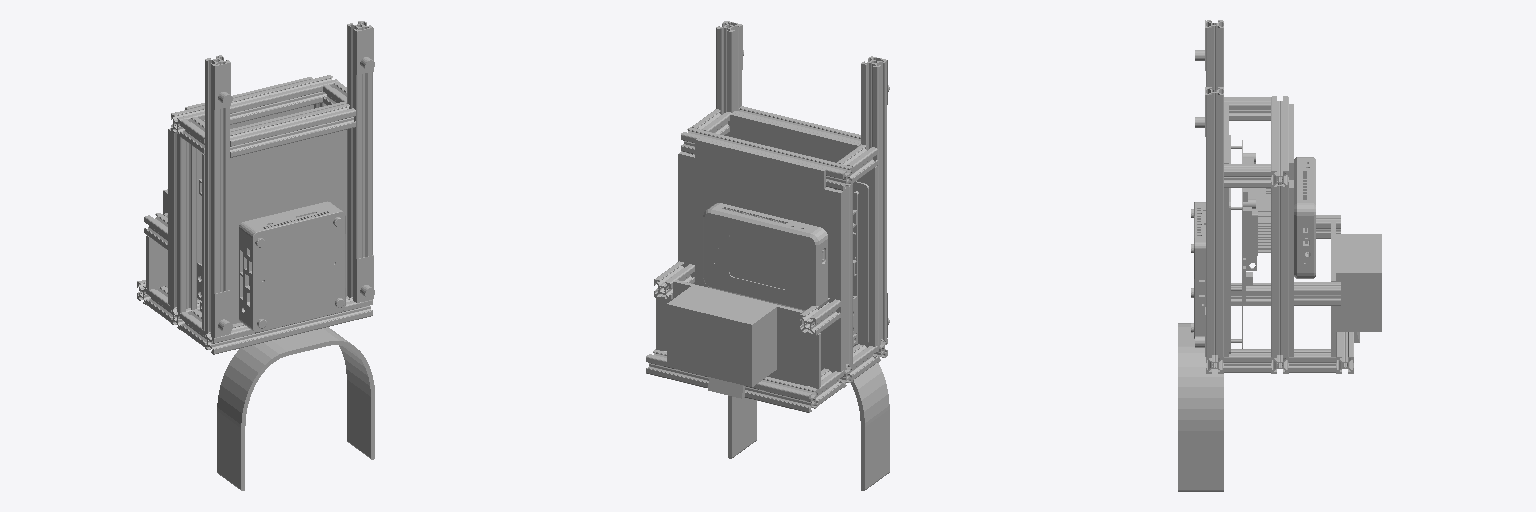
robot.urdf — model20:
<?xml version="1.0" encoding="utf-8"?>
<!-- This URDF was automatically created by SolidWorks to URDF Exporter! Originally created by [author] ([email redacted]) 
     Commit Version: 1.5.1-0-g916b5db  Build Version: 1.5.7152.31018
     For more information, please see http://wiki.ros.org/sw_urdf_exporter -->
<robot
  name="model20">
  <link
    name="base_link">
    <inertial>
      <origin
        xyz="-0.0913295658742293 -0.0740631869532505 0.0426922769396564"
        rpy="0 0 0" />
      <mass
        value="3.2182938629627" />
      <inertia
        ixx="0.00580151653868721"
        ixy="1.93643410747545E-06"
        ixz="6.7604037813263E-07"
        iyy="0.00721990996747041"
        iyz="3.86677335645444E-07"
        izz="0.0125117312153308" />
    </inertial>
    <visual>
      <origin
        xyz="0 0 0"
        rpy="0 0 0" />
      <geometry>
        <mesh
          filename="package://model20/meshes/base_link.STL" />
      </geometry>
      <material
        name="">
        <color
          rgba="0.752941176470588 0.752941176470588 0.752941176470588 1" />
      </material>
    </visual>
    <collision>
      <origin
        xyz="0 0 0"
        rpy="0 0 0" />
      <geometry>
        <mesh
          filename="package://model20/meshes/base_link.STL" />
      </geometry>
    </collision>
  </link>
  <link
    name="left_front_wheel_suspension">
    <inertial>
      <origin
        xyz="-0.00786753377996494 -0.0155948984609842 0.0232556468762561"
        rpy="0 0 0" />
      <mass
        value="0.0651133753252895" />
      <inertia
        ixx="1.48802654908116E-05"
        ixy="1.64845451975805E-08"
        ixz="-1.56420031463122E-07"
        iyy="1.75245555055195E-05"
        iyz="-2.96403540336103E-09"
        izz="8.01010024686586E-06" />
    </inertial>
    <visual>
      <origin
        xyz="0 0 0"
        rpy="0 0 0" />
      <geometry>
        <mesh
          filename="package://model20/meshes/left_front_wheel_suspension.STL" />
      </geometry>
      <material
        name="">
        <color
          rgba="0.752941176470588 0.752941176470588 0.752941176470588 1" />
      </material>
    </visual>
    <collision>
      <origin
        xyz="0 0 0"
        rpy="0 0 0" />
      <geometry>
        <mesh
          filename="package://model20/meshes/left_front_wheel_suspension.STL" />
      </geometry>
    </collision>
  </link>
  <joint
    name="left_front_wheel_suspension_joint"
    type="prismatic">
    <origin
      xyz="-0.018499 0.0039869 -0.030998"
      rpy="1.5708 0 -1.5708" />
    <parent
      link="base_link" />
    <child
      link="left_front_wheel_suspension" />
    <axis
      xyz="0 1 0" />
    <limit
      lower="0"
      upper="0"
      effort="0"
      velocity="0" />
  </joint>
  <link
    name="left_front_wheel">
    <inertial>
      <origin
        xyz="0.0158399891826273 -4.59981459866032E-09 7.99690621500204E-08"
        rpy="0 0 0" />
      <mass
        value="0.22822169800504" />
      <inertia
        ixx="0.000789211576324214"
        ixy="-1.09995507949659E-10"
        ixz="1.91230261060021E-09"
        iyy="0.000410429434291453"
        iyz="-5.55677330321344E-16"
        izz="0.000410429434301075" />
    </inertial>
    <visual>
      <origin
        xyz="0 0 0"
        rpy="0 0 0" />
      <geometry>
        <mesh
          filename="package://model20/meshes/left_front_wheel.STL" />
      </geometry>
      <material
        name="">
        <color
          rgba="1 1 1 1" />
      </material>
    </visual>
    <collision>
      <origin
        xyz="0 0 0"
        rpy="0 0 0" />
      <geometry>
        <mesh
          filename="package://model20/meshes/left_front_wheel.STL" />
      </geometry>
    </collision>
  </link>
  <joint
    name="left_front_wheel_joint"
    type="continuous">
    <origin
      xyz="-0.01976 -0.021787 0.0099999"
      rpy="3.0841 0 3.1416" />
    <parent
      link="left_front_wheel_suspension" />
    <child
      link="left_front_wheel" />
    <axis
      xyz="1 0 0" />
    <limit
      effort="3.1"
      velocity="7" />
  </joint>
  <link
    name="right_front_wheel_suspension">
    <inertial>
      <origin
        xyz="-0.00415434378457435 -0.0156302499401892 0.023255686661272"
        rpy="0 0 0" />
      <mass
        value="0.0651133753251555" />
      <inertia
        ixx="1.48802639086072E-05"
        ixy="1.64845302056301E-08"
        ixz="1.56454773175217E-07"
        iyy="1.75245555054544E-05"
        iyz="2.96411876510217E-09"
        izz="8.01010182899685E-06" />
    </inertial>
    <visual>
      <origin
        xyz="0 0 0"
        rpy="0 0 0" />
      <geometry>
        <mesh
          filename="package://model20/meshes/right_front_wheel_suspension.STL" />
      </geometry>
      <material
        name="">
        <color
          rgba="0.752941176470588 0.752941176470588 0.752941176470588 1" />
      </material>
    </visual>
    <collision>
      <origin
        xyz="0 0 0"
        rpy="0 0 0" />
      <geometry>
        <mesh
          filename="package://model20/meshes/right_front_wheel_suspension.STL" />
      </geometry>
    </collision>
  </link>
  <joint
    name="right_front_wheel_suspension_joint"
    type="prismatic">
    <origin
      xyz="-0.018499 -0.16601 -0.030998"
      rpy="1.5708 0 -1.5708" />
    <parent
      link="base_link" />
    <child
      link="right_front_wheel_suspension" />
    <axis
      xyz="0 1 0" />
    <limit
      lower="0"
      upper="0"
      effort="0"
      velocity="0" />
  </joint>
  <link
    name="right_front_wheel">
    <inertial>
      <origin
        xyz="0.015839199018542 1.11022302462516E-16 0"
        rpy="0 0 0" />
      <mass
        value="0.22822169800504" />
      <inertia
        ixx="0.000789211576333899"
        ixy="-3.38619760983269E-20"
        ixz="4.93127202072331E-21"
        iyy="0.000410429434291421"
        iyz="-2.98155597433514E-19"
        izz="0.00041042943429142" />
    </inertial>
    <visual>
      <origin
        xyz="0 0 0"
        rpy="0 0 0" />
      <geometry>
        <mesh
          filename="package://model20/meshes/right_front_wheel.STL" />
      </geometry>
      <material
        name="">
        <color
          rgba="1 1 1 1" />
      </material>
    </visual>
    <collision>
      <origin
        xyz="0 0 0"
        rpy="0 0 0" />
      <geometry>
        <mesh
          filename="package://model20/meshes/right_front_wheel.STL" />
      </geometry>
    </collision>
  </link>
  <joint
    name="right_front_wheel_joint"
    type="continuous">
    <origin
      xyz="0.0077391 -0.021785 0.01"
      rpy="0.1626 0 0" />
    <parent
      link="right_front_wheel_suspension" />
    <child
      link="right_front_wheel" />
    <axis
      xyz="1 0 0" />
    <limit
      effort="3.1"
      velocity="7" />
  </joint>
  <link
    name="left_rear_wheel_suspension">
    <inertial>
      <origin
        xyz="-0.00786753377996494 -0.0155948984609842 0.0232556468762561"
        rpy="0 0 0" />
      <mass
        value="0.0651133753252895" />
      <inertia
        ixx="1.48802654908115E-05"
        ixy="1.64845451975805E-08"
        ixz="-1.56420031463129E-07"
        iyy="1.75245555055195E-05"
        iyz="-2.96403540336444E-09"
        izz="8.01010024686586E-06" />
    </inertial>
    <visual>
      <origin
        xyz="0 0 0"
        rpy="0 0 0" />
      <geometry>
        <mesh
          filename="package://model20/meshes/left_rear_wheel_suspension.STL" />
      </geometry>
      <material
        name="">
        <color
          rgba="0.752941176470588 0.752941176470588 0.752941176470588 1" />
      </material>
    </visual>
    <collision>
      <origin
        xyz="0 0 0"
        rpy="0 0 0" />
      <geometry>
        <mesh
          filename="package://model20/meshes/left_rear_wheel_suspension.STL" />
      </geometry>
    </collision>
  </link>
  <joint
    name="left_rear_wheel_suspension_joint"
    type="prismatic">
    <origin
      xyz="-0.2785 0.0039882 -0.030998"
      rpy="1.5708 0 -1.5708" />
    <parent
      link="base_link" />
    <child
      link="left_rear_wheel_suspension" />
    <axis
      xyz="0 1 0" />
    <limit
      lower="0"
      upper="0"
      effort="0"
      velocity="0" />
  </joint>
  <link
    name="left_rear_wheel">
    <inertial>
      <origin
        xyz="0.0158401765053968 7.40328947035351E-08 3.05858046945051E-08"
        rpy="0 0 0" />
      <mass
        value="0.22822169800504" />
      <inertia
        ixx="0.000789211576324214"
        ixy="1.77032992327352E-09"
        ixz="7.31390626651259E-10"
        iyy="0.000410429434299695"
        iyz="3.41792024370624E-15"
        izz="0.000410429434292833" />
    </inertial>
    <visual>
      <origin
        xyz="0 0 0"
        rpy="0 0 0" />
      <geometry>
        <mesh
          filename="package://model20/meshes/left_rear_wheel.STL" />
      </geometry>
      <material
        name="">
        <color
          rgba="1 1 1 1" />
      </material>
    </visual>
    <collision>
      <origin
        xyz="0 0 0"
        rpy="0 0 0" />
      <geometry>
        <mesh
          filename="package://model20/meshes/left_rear_wheel.STL" />
      </geometry>
    </collision>
  </link>
  <joint
    name="left_rear_wheel_joint"
    type="continuous">
    <origin
      xyz="-0.01976 -0.021787 0.0099999"
      rpy="-1.9626 0 3.1416" />
    <parent
      link="left_rear_wheel_suspension" />
    <child
      link="left_rear_wheel" />
    <axis
      xyz="1 0 0" />
    <limit
      effort="3.1"
      velocity="7" />
  </joint>
  <link
    name="right_rear_wheel_suspension">
    <inertial>
      <origin
        xyz="-0.00415434378457436 -0.0156302499401892 0.0232556866612721"
        rpy="0 0 0" />
      <mass
        value="0.0651133753251554" />
      <inertia
        ixx="1.48802639086072E-05"
        ixy="1.64845302056292E-08"
        ixz="1.56454773175207E-07"
        iyy="1.75245555054544E-05"
        iyz="2.96411876510507E-09"
        izz="8.01010182899684E-06" />
    </inertial>
    <visual>
      <origin
        xyz="0 0 0"
        rpy="0 0 0" />
      <geometry>
        <mesh
          filename="package://model20/meshes/right_rear_wheel_suspension.STL" />
      </geometry>
      <material
        name="">
        <color
          rgba="0.752941176470588 0.752941176470588 0.752941176470588 1" />
      </material>
    </visual>
    <collision>
      <origin
        xyz="0 0 0"
        rpy="0 0 0" />
      <geometry>
        <mesh
          filename="package://model20/meshes/right_rear_wheel_suspension.STL" />
      </geometry>
    </collision>
  </link>
  <joint
    name="right_rear_wheel_suspension_joint"
    type="prismatic">
    <origin
      xyz="-0.2785 -0.16601 -0.030998"
      rpy="1.5708 0 -1.5708" />
    <parent
      link="base_link" />
    <child
      link="right_rear_wheel_suspension" />
    <axis
      xyz="0 1 0" />
    <limit
      lower="0"
      upper="0"
      effort="0"
      velocity="0" />
  </joint>
  <link
    name="right_rear_wheel">
    <inertial>
      <origin
        xyz="0.015839 1.1102E-16 0"
        rpy="0 0 0" />
      <mass
        value="0.22822" />
      <inertia
        ixx="0.00078921"
        ixy="5.9844E-22"
        ixz="6.2069E-21"
        iyy="0.00041043"
        iyz="-3.112E-19"
        izz="0.00041043" />
    </inertial>
    <visual>
      <origin
        xyz="0 0 0"
        rpy="0 0 0" />
      <geometry>
        <mesh
          filename="package://model20/meshes/right_rear_wheel.STL" />
      </geometry>
      <material
        name="">
        <color
          rgba="1 1 1 1" />
      </material>
    </visual>
    <collision>
      <origin
        xyz="0 0 0"
        rpy="0 0 0" />
      <geometry>
        <mesh
          filename="package://model20/meshes/right_rear_wheel.STL" />
      </geometry>
    </collision>
  </link>
  <joint
    name="right_rear_wheel_joint"
    type="continuous">
    <origin
      xyz="0.0077391 -0.021785 0.01"
      rpy="0 0 0" />
    <parent
      link="right_rear_wheel_suspension" />
    <child
      link="right_rear_wheel" />
    <axis
      xyz="1 0 0" />
    <limit
      effort="3.1"
      velocity="7" />
  </joint>
  <link
    name="camera">
    <inertial>
      <origin
        xyz="-0.011354 0.0012982 1.1063E-05"
        rpy="0 0 0" />
      <mass
        value="0.043612" />
      <inertia
        ixx="2.3571E-05"
        ixy="2.1758E-08"
        ixz="1.0181E-09"
        iyy="2.2106E-05"
        iyz="8.8579E-10"
        izz="4.2948E-06" />
    </inertial>
    <visual>
      <origin
        xyz="0 0 0"
        rpy="0 0 0" />
      <geometry>
        <mesh
          filename="package://model20/meshes/camera.STL" />
      </geometry>
      <material
        name="">
        <color
          rgba="0.79216 0.81961 0.93333 1" />
      </material>
    </visual>
    <collision>
      <origin
        xyz="0 0 0"
        rpy="0 0 0" />
      <geometry>
        <mesh
          filename="package://model20/meshes/camera.STL" />
      </geometry>
    </collision>
  </link>
  <joint
    name="camera"
    type="fixed">
    <origin
      xyz="0.0233 -0.074994 0.08999"
      rpy="1.5708 0 0" />
    <parent
      link="base_link" />
    <child
      link="camera" />
    <axis
      xyz="0 0 0" />
  </joint>
  <link
    name="camera2">
    <inertial>
      <origin
        xyz="-0.011354 0.0012983 1.0711E-05"
        rpy="0 0 0" />
      <mass
        value="0.043612" />
      <inertia
        ixx="2.357E-05"
        ixy="2.1764E-08"
        ixz="9.9729E-10"
        iyy="2.2105E-05"
        iyz="6.8446E-10"
        izz="4.2947E-06" />
    </inertial>
    <visual>
      <origin
        xyz="0 0 0"
        rpy="0 0 0" />
      <geometry>
        <mesh
          filename="package://model20/meshes/camera2.STL" />
      </geometry>
      <material
        name="">
        <color
          rgba="0.79216 0.81961 0.93333 1" />
      </material>
    </visual>
    <collision>
      <origin
        xyz="0 0 0"
        rpy="0 0 0" />
      <geometry>
        <mesh
          filename="package://model20/meshes/camera2.STL" />
      </geometry>
    </collision>
  </link>
  <joint
    name="camera2"
    type="fixed">
    <origin
      xyz="0.0092947 -0.074994 0.15852"
      rpy="1.5708 -0.2618 0" />
    <parent
      link="base_link" />
    <child
      link="camera2" />
    <axis
      xyz="0 0 0" />
  </joint>
  <link
    name="lidar">
    <inertial>
      <origin
        xyz="-0.0086878 -0.0024201 -0.028765"
        rpy="0 0 0" />
      <mass
        value="0.073085" />
      <inertia
        ixx="1.9581E-05"
        ixy="-1.0393E-07"
        ixz="4.2839E-07"
        iyy="2.4125E-05"
        iyz="-9.4271E-09"
        izz="4.1418E-05" />
    </inertial>
    <visual>
      <origin
        xyz="0 0 0"
        rpy="0 0 0" />
      <geometry>
        <mesh
          filename="package://model20/meshes/lidar.STL" />
      </geometry>
      <material
        name="">
        <color
          rgba="0.79216 0.81961 0.93333 1" />
      </material>
    </visual>
    <collision>
      <origin
        xyz="0 0 0"
        rpy="0 0 0" />
      <geometry>
        <mesh
          filename="package://model20/meshes/lidar.STL" />
      </geometry>
    </collision>
  </link>
  <joint
    name="lidar_joint"
    type="fixed">
    <origin
      xyz="-0.062759 -0.082799 0.2235"
      rpy="0 0 0" />
    <parent
      link="base_link" />
    <child
      link="lidar" />
    <axis
      xyz="0 0 0" />
  </joint>
  <link
    name="imu">
    <inertial>
      <origin
        xyz="-1.3878E-17 0.0025 0"
        rpy="0 0 0" />
      <mass
        value="0.00051" />
      <inertia
        ixx="5.3125E-09"
        ixy="5.5294E-26"
        ixz="-7.3726E-26"
        iyy="8.5E-09"
        iyz="1.4206E-40"
        izz="5.3125E-09" />
    </inertial>
    <visual>
      <origin
        xyz="0 0 0"
        rpy="0 0 0" />
      <geometry>
        <mesh
          filename="package://model20/meshes/imu.STL" />
      </geometry>
      <material
        name="">
        <color
          rgba="1 1 1 1" />
      </material>
    </visual>
    <collision>
      <origin
        xyz="0 0 0"
        rpy="0 0 0" />
      <geometry>
        <mesh
          filename="package://model20/meshes/imu.STL" />
      </geometry>
    </collision>
  </link>
  <joint
    name="imu"
    type="fixed">
    <origin
      xyz="-0.0935 -0.033752 0.17"
      rpy="1.5708 0 -1.5708" />
    <parent
      link="base_link" />
    <child
      link="imu" />
    <axis
      xyz="0 0 0" />
  </joint>
</robot>

--- Render facts (derived) ---
Views: 3 orthographic renders of the robot side by side, from view 1: azimuth 30°, elevation 25°; view 2: azimuth 150°, elevation 25°; view 3: azimuth 270°, elevation 25°.
Model model20 with 13 links and 12 joints (4 continuous, 4 prismatic, 4 fixed), rooted at base_link, posed every joint at zero.
Links seen in each view (by area): view 1: base_link; view 2: base_link; view 3: base_link.
Link boxes in pixels (x1,y1,x2,y2): base_link: (137, 21, 374, 490); base_link: (646, 21, 889, 490); base_link: (1178, 20, 1381, 491).
Size in the robot's own frame: 0.19 by 0.22 by 0.4775 metres.
1 mesh visuals loaded from 13 distinct referenced files (1 binary STL); not drawn: 12 (reference not matched to a file when rendering).